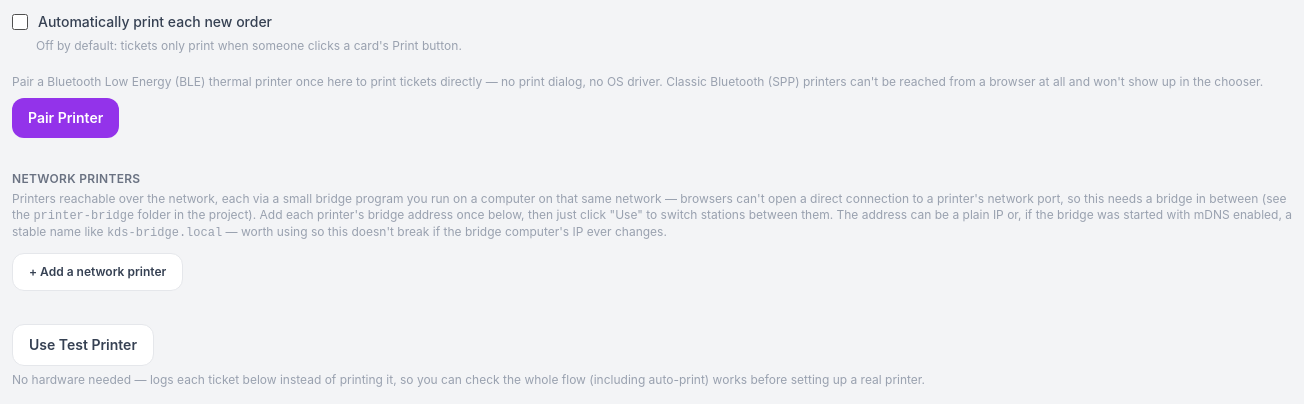
PrinterConfig › pairs a printer and shows it as connected
Step 1. Click the button "Pair Printer" → (66, 118), box [12, 98, 119, 138]
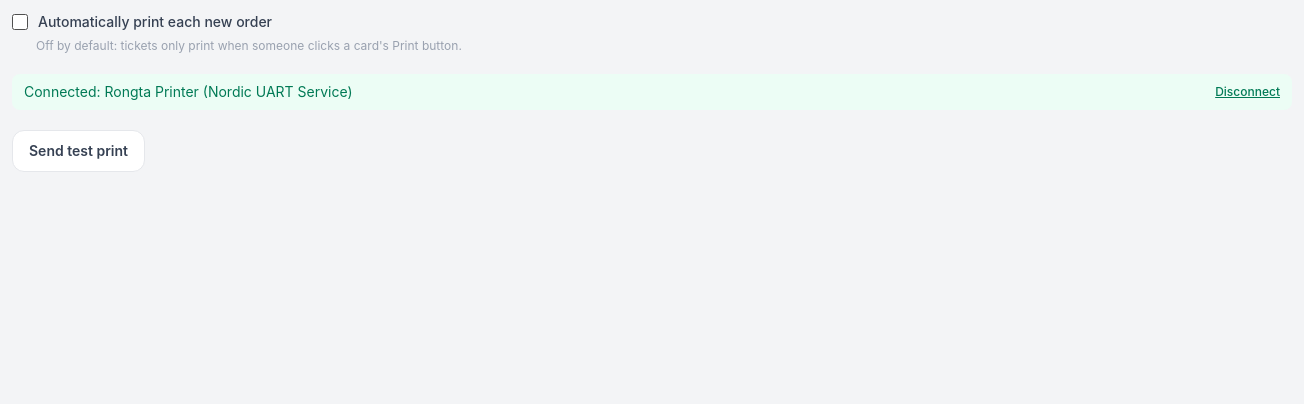
Expected: the text "Connected: Rongta Printer (Nordic UART Service)" is shown, [24, 82, 353, 102]
